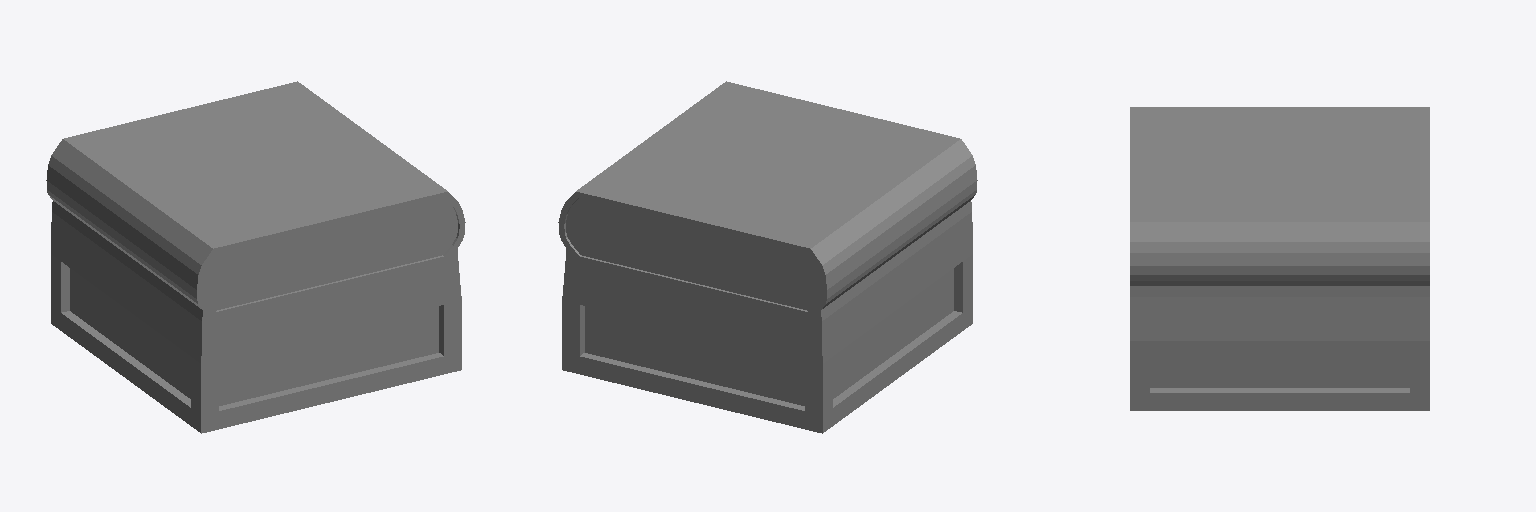
The model's file is slow_conveyor.obj.
3 views of the same model, side by side, from view 1: azimuth 30°, elevation 25°; view 2: azimuth 150°, elevation 25°; view 3: azimuth 270°, elevation 25° (orthographic).
Visible parts, largest first — view 1: conveyor; view 2: conveyor; view 3: conveyor.
Part boxes in pixels (left/top/right/bottom): conveyor: left=46, top=81, right=465, bottom=433; conveyor: left=558, top=81, right=977, bottom=433; conveyor: left=1130, top=107, right=1429, bottom=410.
Size of the model in its own units: 30.94 by 20.04 by 30.